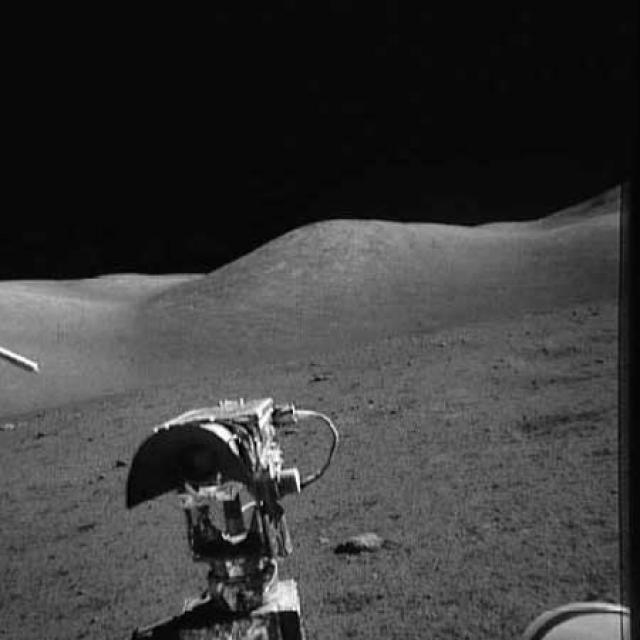artifact: (125, 391, 339, 639), (518, 588, 638, 638), (1, 338, 48, 384)
rock: (340, 526, 390, 555)
